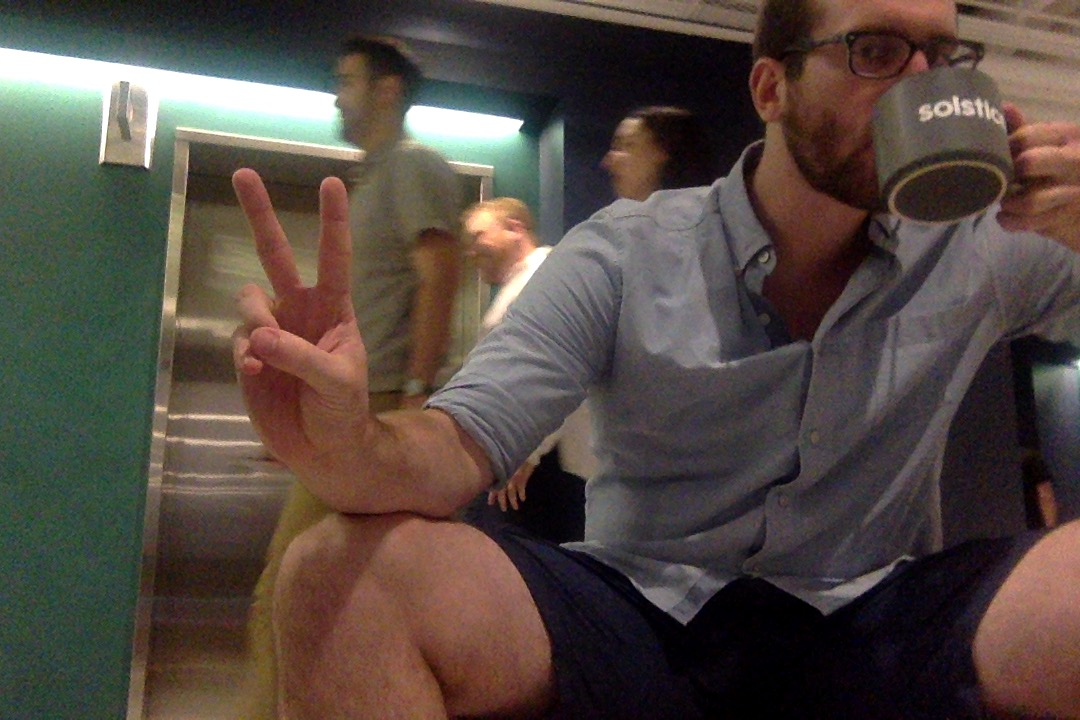v: (220, 163, 377, 457)
